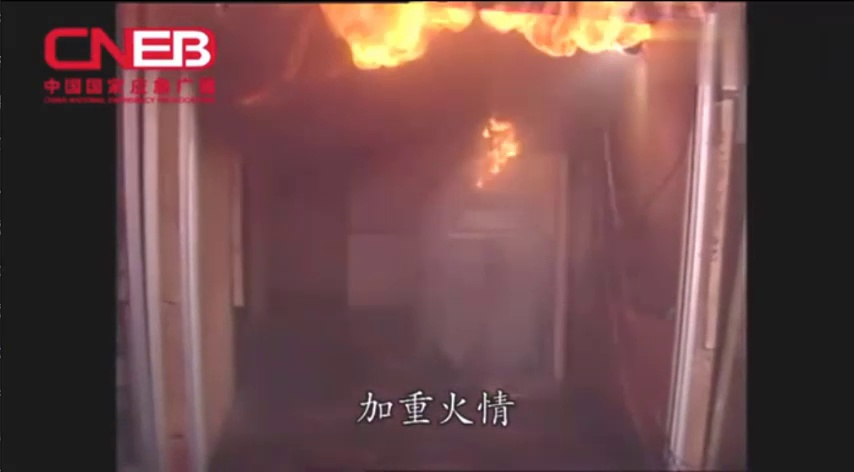fire: (480, 2, 695, 63), (312, 3, 481, 74), (464, 108, 528, 201)
